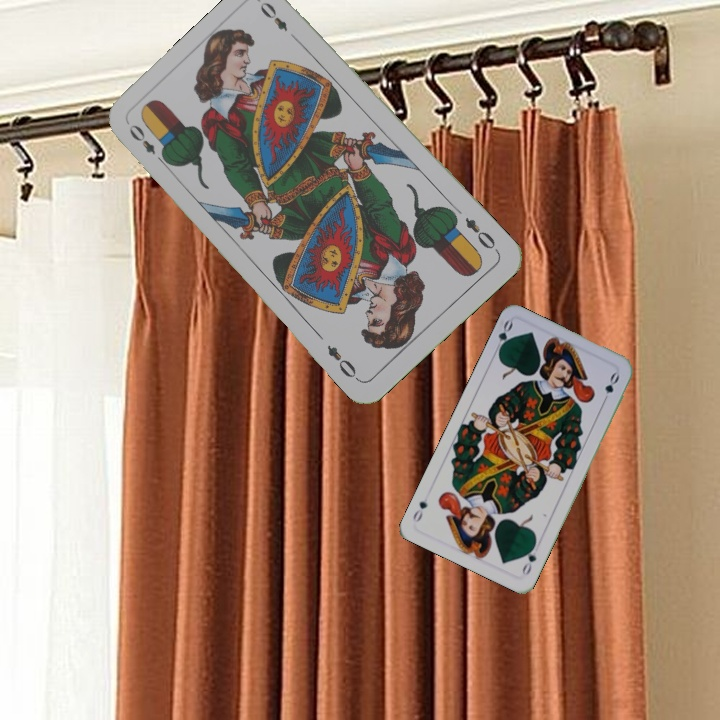EO: (124, 120, 170, 168), (460, 213, 501, 255)
GO: (490, 316, 515, 357), (518, 539, 539, 578)
